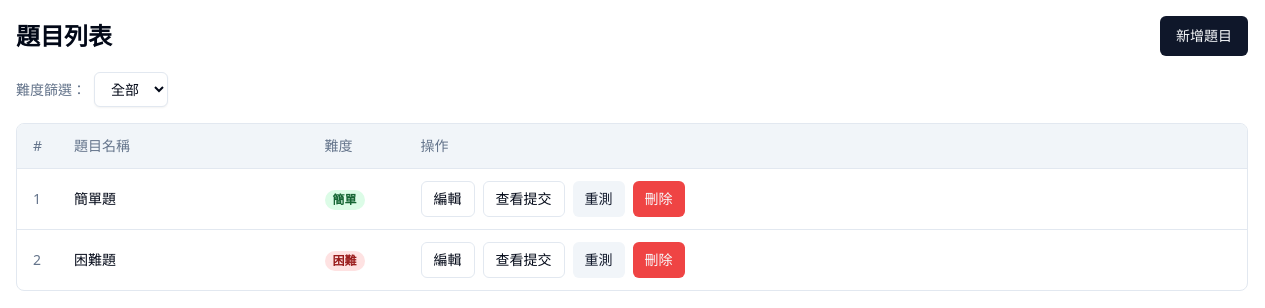
ProblemListPage › selecting 困難 filter shows only the Hard row
Expected: the text "簡單題" is shown, [58, 168, 308, 230]
Expected: the text "困難題" is shown, [58, 230, 308, 290]
Select "困難" in the dropdown at (131,90), box [94, 72, 168, 107]
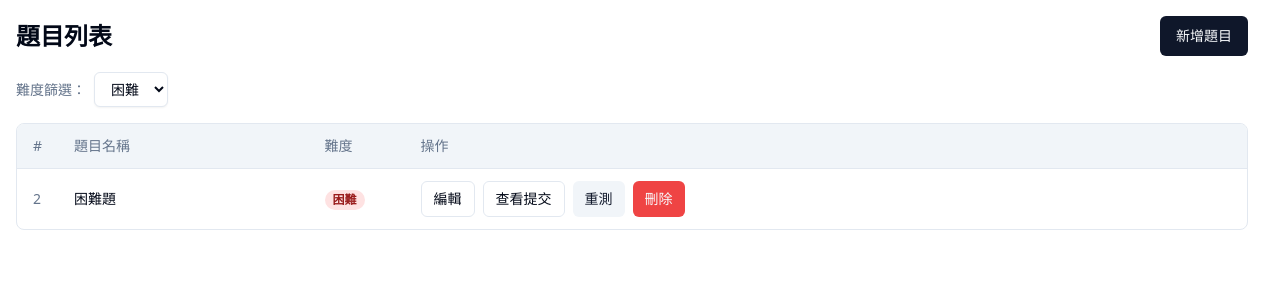
Expected: the text "困難題" is shown, [58, 168, 308, 229]
Result: the text "簡單題" is gone
